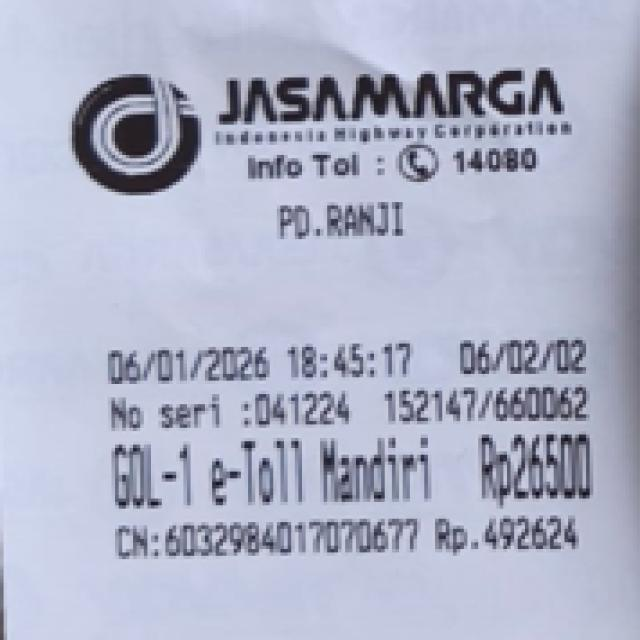date: (102, 343, 424, 382)
store: (219, 72, 590, 135)
total: (474, 425, 605, 507)
